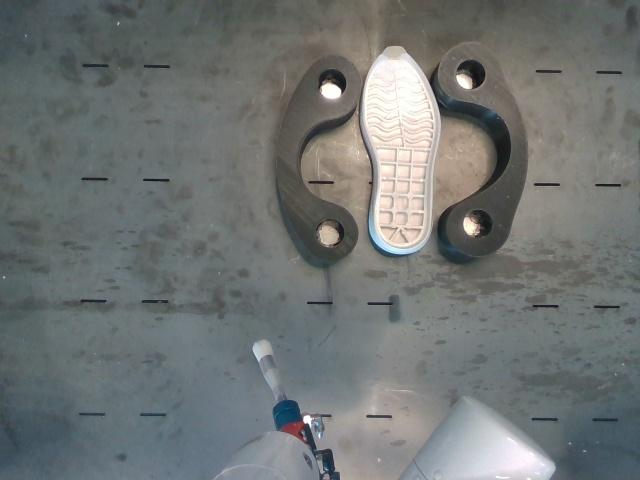shoes: (365, 46, 440, 249)
